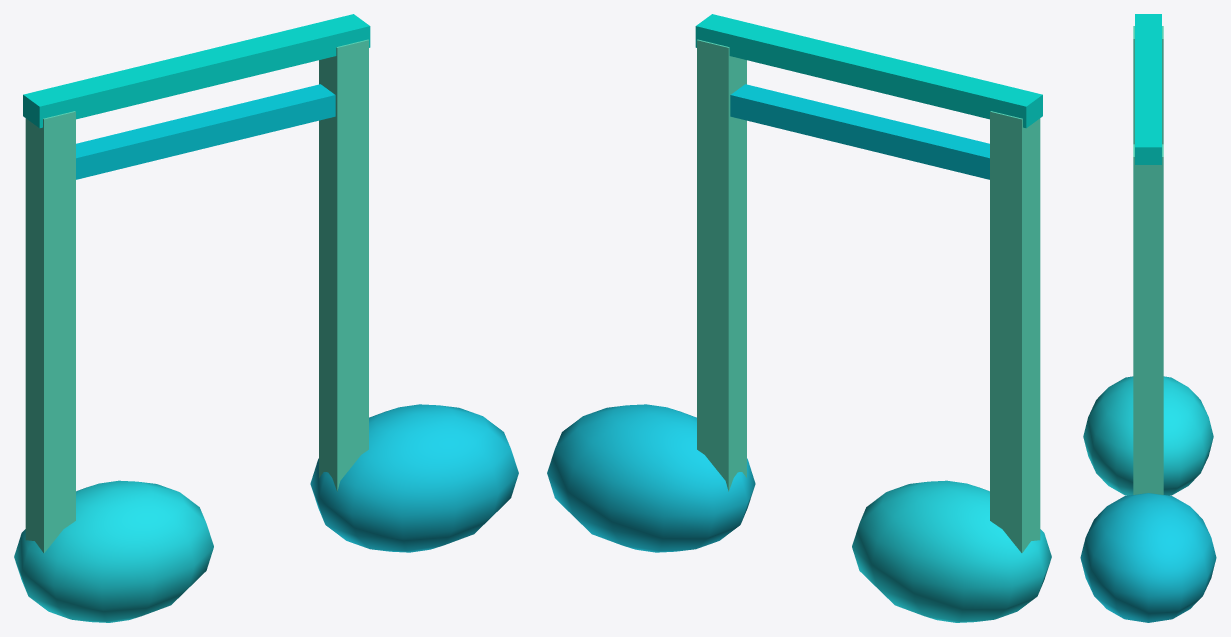
Rendered from Note_type_3.fbx.
3 renders of one model, left to right at view 1: azimuth 30°, elevation 25°; view 2: azimuth 150°, elevation 25°; view 3: azimuth 270°, elevation 25°, orthographic. The views are drawn at different scales.
Visible parts, largest first — view 1: 立方体, 球, 球.001, 立方体.001, 立方体.002; view 2: 立方体, 球, 球.001, 立方体.001, 立方体.002; view 3: 球, 立方体, 球.001, 立方体.001.
Part boxes in pixels (bbox=[...]): 立方体: bbox=[25, 39, 368, 552]; 球: bbox=[310, 404, 518, 552]; 球.001: bbox=[14, 480, 213, 622]; 立方体.001: bbox=[23, 14, 370, 128]; 立方体.002: bbox=[76, 84, 335, 179]; 立方体: bbox=[697, 39, 1040, 552]; 球: bbox=[547, 404, 755, 552]; 球.001: bbox=[852, 480, 1051, 622]; 立方体.001: bbox=[695, 14, 1042, 128]; 立方体.002: bbox=[730, 84, 989, 179]; 球: bbox=[1080, 493, 1216, 622]; 立方体: bbox=[1133, 26, 1163, 494]; 球.001: bbox=[1083, 376, 1213, 495]; 立方体.001: bbox=[1135, 14, 1161, 164].
Size of the model in its own units: 437 by 457 by 127.
